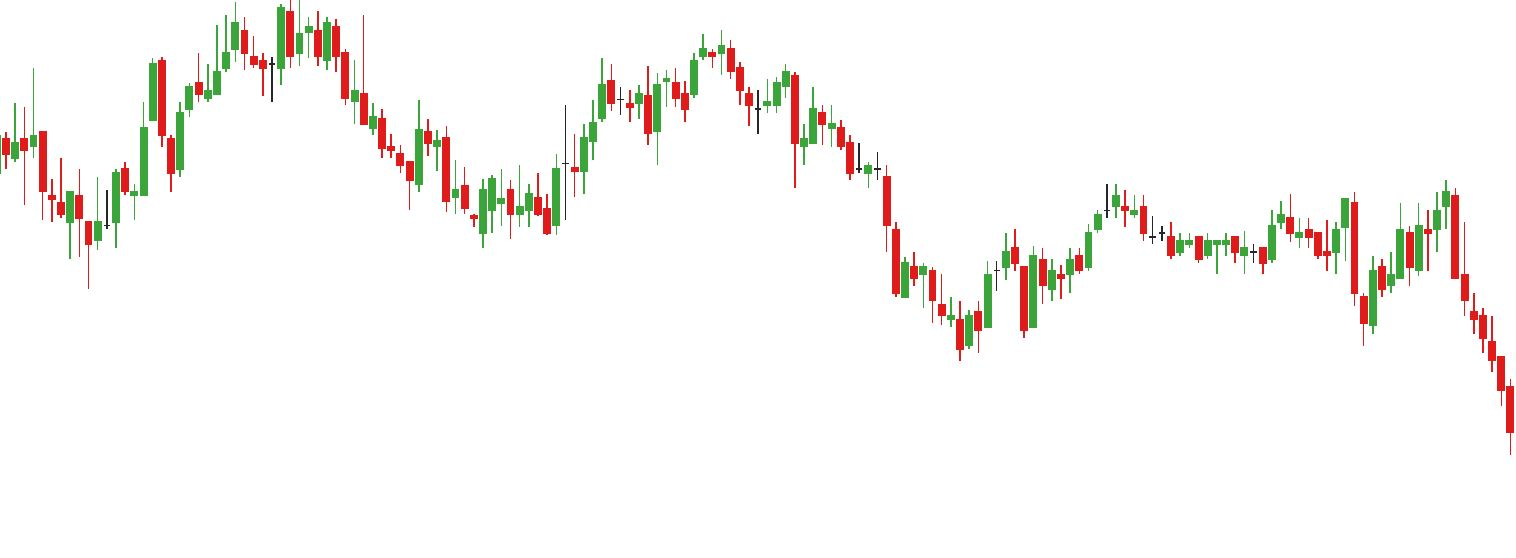sell: (1350, 182, 1461, 264), (597, 34, 716, 105), (230, 2, 296, 56)
